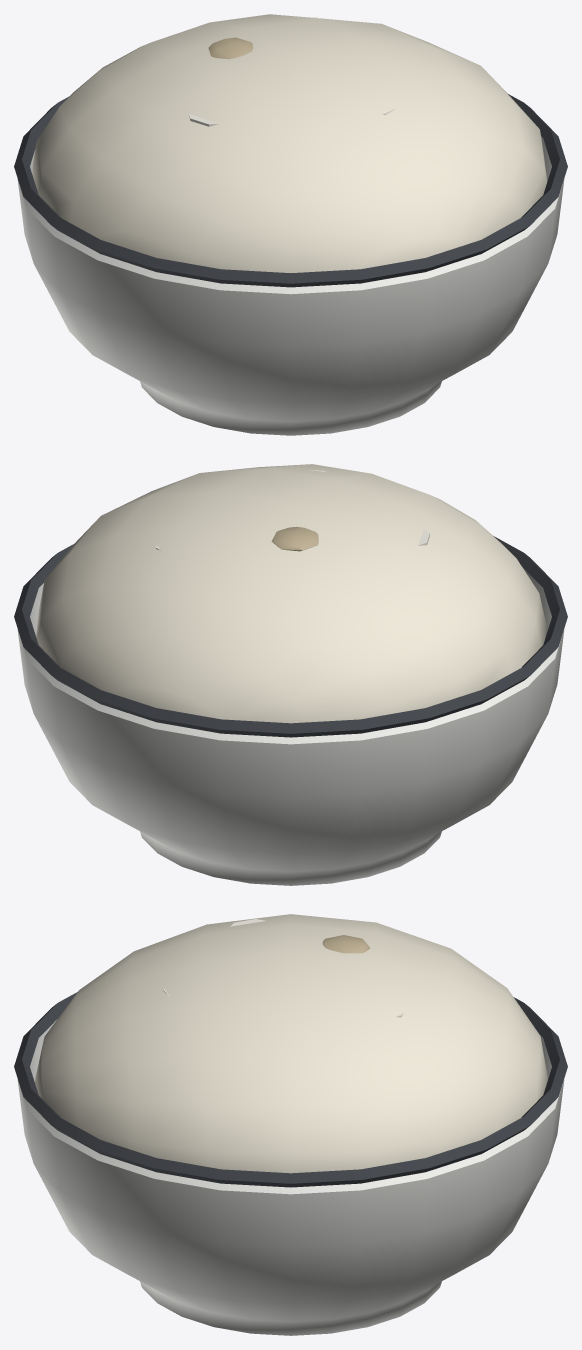
Rendered from cook_risen_dough.glb.
3 renders of one model, top to bottom at view 1: azimuth 30°, elevation 25°; view 2: azimuth 150°, elevation 25°; view 3: azimuth 270°, elevation 25°, orthographic.
Parts seen in each view (by area): view 1: body; view 2: body; view 3: body.
Boxes of the visible parts, box(x1,y1,x2,y2) form: body: box(14, 14, 567, 435); body: box(14, 464, 567, 885); body: box(14, 914, 567, 1335).
Bounding box in the file's own units: 0.0628 × 0.0396 × 0.0628.
